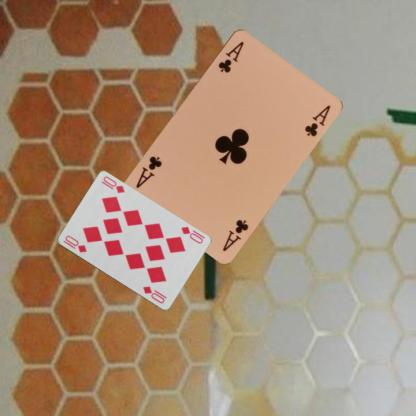10d: (60, 233, 88, 254), (178, 224, 204, 245)
Ac: (220, 216, 250, 253), (215, 38, 245, 74)
